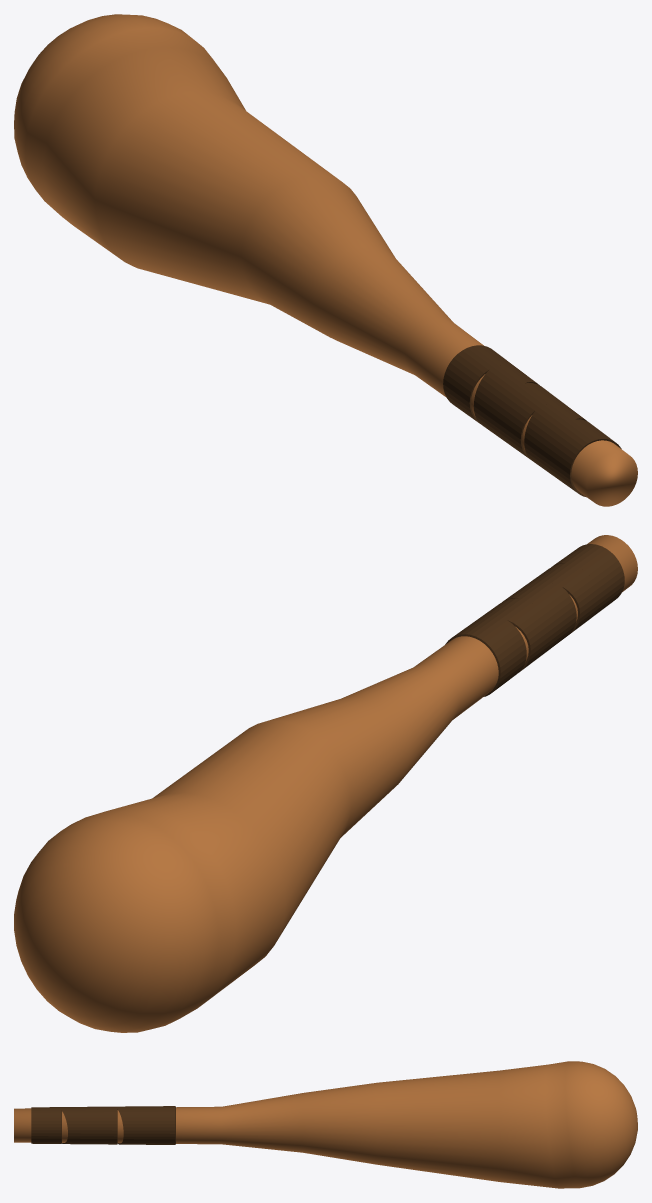
File: club.fbx
3 renders of one model, top to bottom at view 1: azimuth 30°, elevation 25°; view 2: azimuth 150°, elevation 25°; view 3: azimuth 270°, elevation 25°, orthographic. The views are drawn at different scales.
Parts seen in each view (by area): view 1: Cylinder, Cylinder.001; view 2: Cylinder, Cylinder.001; view 3: Cylinder, Cylinder.001.
Boxes of the visible parts, x1=… form: Cylinder: x1=14, y1=14, x2=637, y2=506; Cylinder.001: x1=443, y1=345, x2=621, y2=497; Cylinder: x1=14, y1=535, x2=637, y2=1032; Cylinder.001: x1=445, y1=544, x2=624, y2=696; Cylinder: x1=14, y1=1061, x2=637, y2=1188; Cylinder.001: x1=31, y1=1106, x2=175, y2=1144.
Bounding box in the file's own units: 48.55 × 48.82 × 238.
